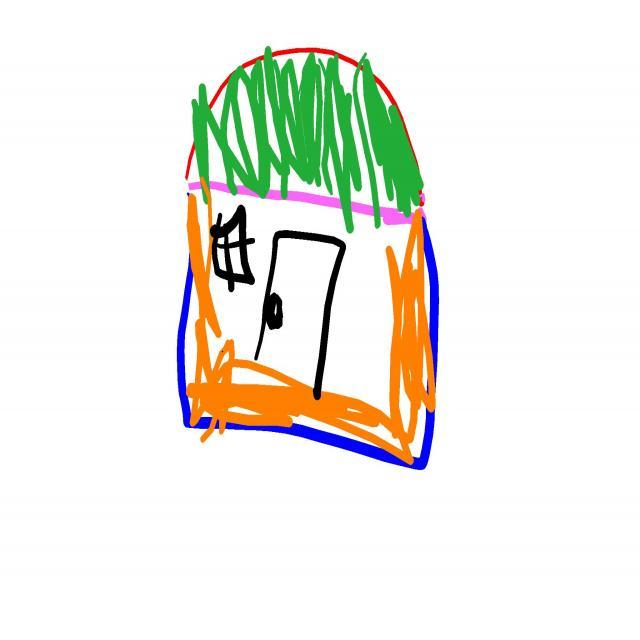door: (249, 233, 346, 389)
house: (177, 48, 439, 470)
roof: (186, 49, 422, 218)
wall: (175, 186, 437, 465)
window: (207, 206, 250, 286)
